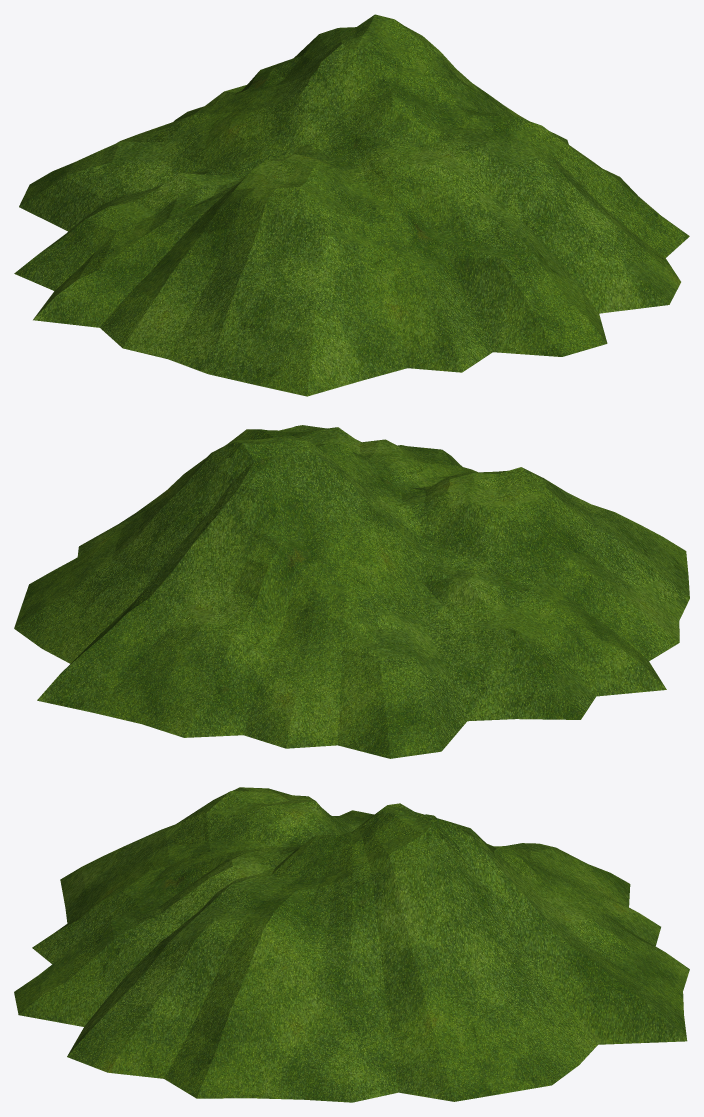
The model's file is sphagnum_hummock_v01.glb.
The picture shows the model from 3 angles, top to bottom: view 1: azimuth 30°, elevation 25°; view 2: azimuth 150°, elevation 25°; view 3: azimuth 270°, elevation 25°; orthographic projection.
Parts seen in each view (by area): view 1: sphagnum_hummock_v01; view 2: sphagnum_hummock_v01; view 3: sphagnum_hummock_v01.
Part boxes in pixels (left/top/right/bottom): sphagnum_hummock_v01: left=14, top=14, right=689, bottom=396; sphagnum_hummock_v01: left=14, top=425, right=689, bottom=758; sphagnum_hummock_v01: left=14, top=787, right=689, bottom=1102.
Bounding box in the file's own units: 0.6251 × 0.1856 × 0.6265.
1 material, 1 textured.
